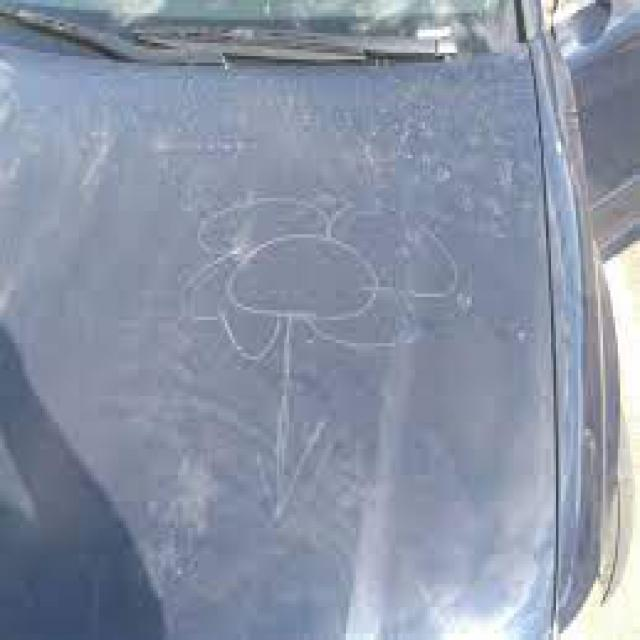bonnet-dent: (0, 40, 588, 637)
